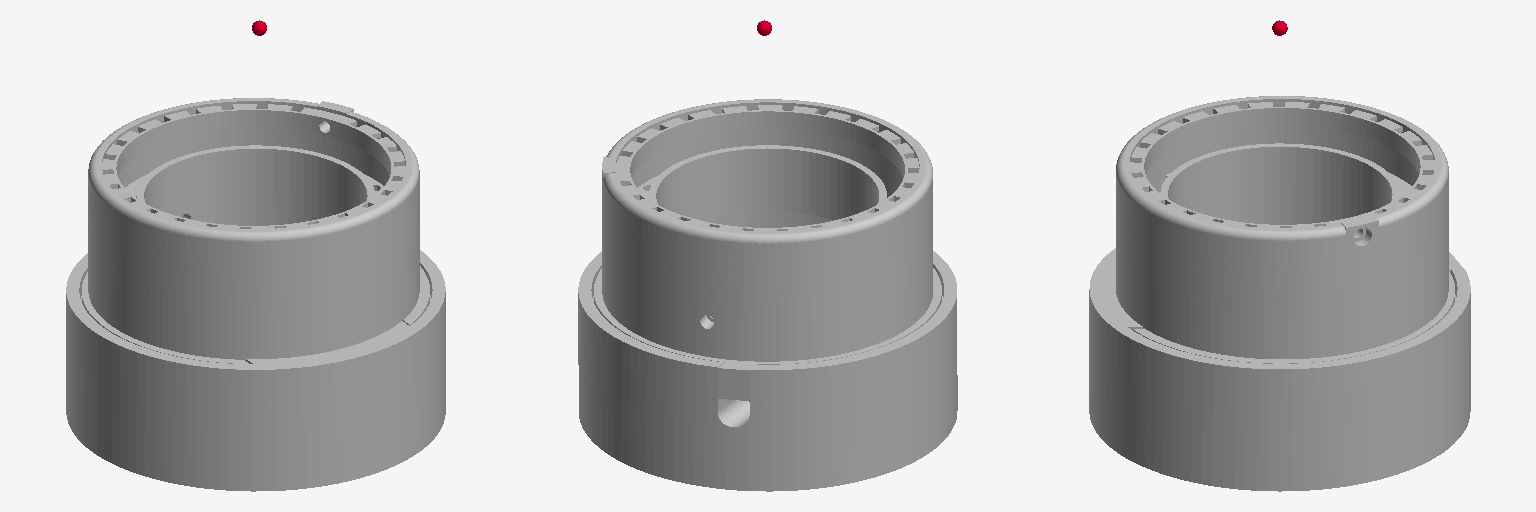
URDF robot description (lbr_iiwa):
<?xml version="1.0" ?>
<robot name="lbr_iiwa">
	<link name="world">
		<inertial>
			<origin rpy="0.00000 -0.00000 0.00000" xyz="0.00000 0.00000 0.00000"/>
			<mass value="0.00000"/>
			<inertia ixx="0.00000" ixy="0" ixz="0" iyy="0.00000" iyz="0" izz="0.00000"/>
		</inertial>
	</link>
	<link name="base_link">
		<inertial>
			<origin rpy="0.00000 -0.00000 0.00000" xyz="-0.10000 0.00000 0.07000"/>
			<mass value="0.00000"/>
			<inertia ixx="0.00000" ixy="0" ixz="0" iyy="0.00000" iyz="0" izz="0.00000"/>
		</inertial>
		<visual>
			<origin rpy="0.00000 -0.00000 0.00000" xyz="0.00000 0.00000 0.00000"/>
			<geometry>
				<mesh filename="../robot_arm_assets/kuka_iiwa/meshes/link_0.obj" scale="1.00000 1.00000 1.00000"/>
			</geometry>
			<material name="mat_0">
				<color rgba="0.20000 0.20000 0.20000 1.00000" />
			</material>
		</visual>
		<collision>
			<origin rpy="0.00000 -0.00000 0.00000" xyz="0.00000 0.00000 0.00000"/>
			<geometry>
				<mesh filename="../robot_arm_assets/kuka_iiwa/meshes/link_0.stl" scale="1.00000 1.00000 1.00000"/>
			</geometry>
		</collision>
	</link>
	<link name="lbr_iiwa_link_1">
		<inertial>
			<origin rpy="0.00000 -0.00000 0.00000" xyz="0.00000 -0.03000 0.12000"/>
			<mass value="4.00000"/>
			<inertia ixx="0.04509" ixy="0" ixz="0" iyy="0.04124" iyz="0" izz="0.02474"/>
		</inertial>
		<visual>
			<origin rpy="0.00000 -0.00000 0.00000" xyz="0.00000 0.00000 0.00000"/>
			<geometry>
				<mesh filename="../robot_arm_assets/kuka_iiwa/meshes/link_1.obj" scale="1.00000 1.00000 1.00000"/>
			</geometry>
			<material name="mat_1">
				<color rgba="0.50000 0.70000 1.00000 1.00000" />
			</material>
		</visual>
		<collision>
			<origin rpy="0.00000 -0.00000 0.00000" xyz="0.00000 0.00000 0.00000"/>
			<geometry>
				<mesh filename="../robot_arm_assets/kuka_iiwa/meshes/link_1.stl" scale="1.00000 1.00000 1.00000"/>
			</geometry>
		</collision>
	</link>
	<link name="lbr_iiwa_link_2">
		<inertial>
			<origin rpy="0.00000 -0.00000 0.00000" xyz="0.00030 0.05900 0.04200"/>
			<mass value="4.00000"/>
			<inertia ixx="0.04343" ixy="0" ixz="0" iyy="0.02460" iyz="0" izz="0.03965"/>
		</inertial>
		<visual>
			<origin rpy="0.00000 -0.00000 0.00000" xyz="0.00000 0.00000 0.00000"/>
			<geometry>
				<mesh filename="../robot_arm_assets/kuka_iiwa/meshes/link_2.obj" scale="1.00000 1.00000 1.00000"/>
			</geometry>
			<material name="mat_2">
				<color rgba="0.50000 0.70000 1.00000 1.00000" />
			</material>
		</visual>
		<collision>
			<origin rpy="0.00000 -0.00000 0.00000" xyz="0.00000 0.00000 0.00000"/>
			<geometry>
				<mesh filename="../robot_arm_assets/kuka_iiwa/meshes/link_2.stl" scale="1.00000 1.00000 1.00000"/>
			</geometry>
		</collision>
	</link>
	<link name="lbr_iiwa_link_3">
		<inertial>
			<origin rpy="0.00000 -0.00000 0.00000" xyz="0.00000 0.03000 0.13000"/>
			<mass value="3.00000"/>
			<inertia ixx="0.03130" ixy="0" ixz="0" iyy="0.02744" iyz="0" izz="0.01394"/>
		</inertial>
		<visual>
			<origin rpy="0.00000 -0.00000 0.00000" xyz="0.00000 0.00000 0.00000"/>
			<geometry>
				<mesh filename="../robot_arm_assets/kuka_iiwa/meshes/link_3.obj" scale="1.00000 1.00000 1.00000"/>
			</geometry>
			<material name="mat_3">
				<color rgba="1.00000 0.42353 0.03922 1.00000" />
			</material>
		</visual>
		<collision>
			<origin rpy="0.00000 -0.00000 0.00000" xyz="0.00000 0.00000 0.00000"/>
			<geometry>
				<mesh filename="../robot_arm_assets/kuka_iiwa/meshes/link_3.stl" scale="1.00000 1.00000 1.00000"/>
			</geometry>
		</collision>
	</link>
	<link name="lbr_iiwa_link_4">
		<inertial>
			<origin rpy="0.00000 -0.00000 0.00000" xyz="0.00000 0.06700 0.03400"/>
			<mass value="2.70000"/>
			<inertia ixx="0.02302" ixy="0" ixz="0" iyy="0.01255" iyz="0" izz="0.01957"/>
		</inertial>
		<visual>
			<origin rpy="0.00000 -0.00000 0.00000" xyz="0.00000 0.00000 0.00000"/>
			<geometry>
				<mesh filename="../robot_arm_assets/kuka_iiwa/meshes/link_4.obj" scale="1.00000 1.00000 1.00000"/>
			</geometry>
			<material name="mat_4">
				<color rgba="0.50000 0.70000 1.00000 1.00000" />
			</material>
		</visual>
		<collision>
			<origin rpy="0.00000 -0.00000 0.00000" xyz="0.00000 0.00000 0.00000"/>
			<geometry>
				<mesh filename="../robot_arm_assets/kuka_iiwa/meshes/link_4.stl" scale="1.00000 1.00000 1.00000"/>
			</geometry>
		</collision>
	</link>
	<link name="lbr_iiwa_link_5">
		<inertial>
			<origin rpy="0.00000 -0.00000 0.00000" xyz="0.00010 0.02100 0.07600"/>
			<mass value="1.70000"/>
			<inertia ixx="0.01559" ixy="0" ixz="0" iyy="0.01421" iyz="0" izz="0.00710"/>
		</inertial>
		<visual>
			<origin rpy="0.00000 -0.00000 0.00000" xyz="0.00000 0.00000 0.00000"/>
			<geometry>
				<mesh filename="../robot_arm_assets/kuka_iiwa/meshes/link_5.obj" scale="1.00000 1.00000 1.00000"/>
			</geometry>
			<material name="mat_5">
				<color rgba="0.50000 0.70000 1.00000 1.00000" />
			</material>
		</visual>
		<collision>
			<origin rpy="0.00000 -0.00000 0.00000" xyz="0.00000 0.00000 0.00000"/>
			<geometry>
				<mesh filename="../robot_arm_assets/kuka_iiwa/meshes/link_5.stl" scale="1.00000 1.00000 1.00000"/>
			</geometry>
		</collision>
	</link>
	<link name="lbr_iiwa_link_6">
		<inertial>
			<origin rpy="0.00000 -0.00000 0.00000" xyz="0.00000 0.00060 0.00040"/>
			<mass value="1.80000"/>
			<inertia ixx="0.00761" ixy="0" ixz="0" iyy="0.00597" iyz="0" izz="0.00738"/>
		</inertial>
		<visual>
			<origin rpy="0.00000 -0.00000 0.00000" xyz="0.00000 0.00000 0.00000"/>
			<geometry>
				<mesh filename="../robot_arm_assets/kuka_iiwa/meshes/link_6.obj" scale="1.00000 1.00000 1.00000"/>
			</geometry>
			<material name="mat_6">
				<color rgba="1.00000 0.42353 0.03922 1.00000" />
			</material>
		</visual>
		<collision>
			<origin rpy="0.00000 -0.00000 0.00000" xyz="0.00000 0.00000 0.00000"/>
			<geometry>
				<mesh filename="../robot_arm_assets/kuka_iiwa/meshes/link_6.stl" scale="1.00000 1.00000 1.00000"/>
			</geometry>
		</collision>
	</link>
	<link name="lbr_iiwa_link_7">
		<inertial>
			<origin rpy="0.00000 -0.00000 0.00000" xyz="0.00000 0.00000 0.02000"/>
			<mass value="0.30000"/>
			<inertia ixx="0.00039" ixy="0" ixz="0" iyy="0.00040" iyz="0" izz="0.00060"/>
		</inertial>
		<visual>
			<origin rpy="0.00000 -0.00000 0.00000" xyz="0.00000 0.00000 0.00000"/>
			<geometry>
				<mesh filename="../robot_arm_assets/kuka_iiwa/meshes/link_7.obj" scale="1.00000 1.00000 1.00000"/>
			</geometry>
			<material name="mat_7">
				<color rgba="0.20000 0.20000 0.20000 1.00000" />
			</material>
		</visual>
		<collision>
			<origin rpy="0.00000 -0.00000 0.00000" xyz="0.00000 0.00000 0.00000"/>
			<geometry>
				<mesh filename="../robot_arm_assets/kuka_iiwa/meshes/link_7.stl" scale="1.00000 1.00000 1.00000"/>
			</geometry>
		</collision>
	</link>
	<link name="ee_link">
		<inertial>
			<origin rpy="-3.14000 -0.00000 1.57000" xyz="0.00000 0.00000 0.00000"/>
			<mass value="0.00000"/>
			<inertia ixx="0.00000" ixy="0" ixz="0" iyy="0.00000" iyz="0" izz="0.00000"/>
		</inertial>
		<visual>
			<origin rpy="0.00000 -0.00000 0.00000" xyz="0.00000 0.00000 0.00000"/>
			<geometry>
				<sphere radius="0.00500"/>
			</geometry>
			<material name="mat_8">
				<color rgba="0.90000 0.00000 0.20000 0.50000" />
			</material>
		</visual>
		<collision>
			<origin rpy="0.00000 -0.00000 0.00000" xyz="0.00000 0.00000 0.00000"/>
			<geometry>
				<sphere radius="0.00100"/>
			</geometry>
		</collision>
	</link>
	<link name="tactip_body_link">
		<inertial>
			<origin rpy="0.00000 -0.00000 0.00000" xyz="0.00000 0.00000 0.00000"/>
			<mass value="0.25000"/>
			<inertia ixx="0.00010" ixy="0" ixz="0" iyy="0.00010" iyz="0" izz="0.00013"/>
		</inertial>
		<visual>
			<origin rpy="0.00000 -0.00000 0.00000" xyz="0.00000 0.00000 0.00000"/>
			<geometry>
				<mesh filename="../sensor_assets/mini_tactip/body/minitip_body.obj" scale="1.00000 1.00000 1.00000"/>
			</geometry>
			<material name="mat_9">
				<color rgba="0.80000 0.80000 0.80000 1.00000" />
			</material>
		</visual>
		<collision>
			<origin rpy="0.00000 -0.00000 0.00000" xyz="0.00000 0.00000 0.00000"/>
			<geometry>
				<mesh filename="../sensor_assets/mini_tactip/body/minitip_body.obj" scale="1.00000 1.00000 1.00000"/>
			</geometry>
		</collision>
	</link>
	<link name="tactip_tip_link">
		<inertial>
			<origin rpy="0.00000 -0.00000 0.00000" xyz="0.00000 0.00000 0.00000"/>
			<mass value="0.01000"/>
			<inertia ixx="0.00000" ixy="0" ixz="0" iyy="0.00000" iyz="0" izz="0.00000"/>
		</inertial>
		<visual>
			<origin rpy="0.00000 -0.00000 0.00000" xyz="0.00000 0.00000 0.00000"/>
			<geometry>
				<mesh filename="../sensor_assets/mini_tactip/tip/skin.obj" scale="1.00000 1.00000 1.00000"/>
			</geometry>
			<material name="mat_10">
				<color rgba="0.00000 0.00000 0.00000 1.00000" />
			</material>
		</visual>
		<collision>
			<origin rpy="0.00000 -0.00000 0.00000" xyz="0.00000 0.00000 0.00000"/>
			<geometry>
				<mesh filename="../sensor_assets/mini_tactip/tip/core.obj" scale="1.00000 1.00000 1.00000"/>
			</geometry>
		</collision>
	</link>
	<link name="tcp_link">
		<inertial>
			<origin rpy="0.00000 -0.00000 1.57000" xyz="0.00000 0.00000 0.00000"/>
			<mass value="0.00000"/>
			<inertia ixx="0.00000" ixy="0" ixz="0" iyy="0.00000" iyz="0" izz="0.00000"/>
		</inertial>
		<visual>
			<origin rpy="0.00000 -0.00000 0.00000" xyz="0.00000 0.00000 0.00000"/>
			<geometry>
				<sphere radius="0.00100"/>
			</geometry>
			<material name="mat_11">
				<color rgba="0.90000 0.00000 0.20000 0.50000" />
			</material>
		</visual>
	</link>
	<joint name="world_joint" type="fixed">
		<parent link="world"/>
		<child link="base_link"/>
		<dynamics damping="1.0" friction="0.0001"/>
		<origin rpy="0.00000 -0.00000 0.00000" xyz="0.00000 0.00000 0.00000"/>
		<axis xyz="0.00000 0.00000 0.00000"/>
	</joint>
	<joint name="lbr_iiwa_joint_1" type="revolute">
		<parent link="base_link"/>
		<child link="lbr_iiwa_link_1"/>
		<limit effort="300.00000" lower="-100.00000" upper="100.00000" velocity="10.00000"/>
		<dynamics damping="1.0" friction="0.0001"/>
		<origin rpy="0.00000 -0.00000 0.00000" xyz="0.00000 0.00000 0.15750"/>
		<axis xyz="0.00000 0.00000 1.00000"/>
	</joint>
	<joint name="lbr_iiwa_joint_2" type="revolute">
		<parent link="lbr_iiwa_link_1"/>
		<child link="lbr_iiwa_link_2"/>
		<limit effort="300.00000" lower="-100.00000" upper="100.00000" velocity="10.00000"/>
		<dynamics damping="1.0" friction="0.0001"/>
		<origin rpy="1.57080 -0.00000 -3.14159" xyz="0.00000 0.00000 0.20250"/>
		<axis xyz="0.00000 0.00000 1.00000"/>
	</joint>
	<joint name="lbr_iiwa_joint_3" type="revolute">
		<parent link="lbr_iiwa_link_2"/>
		<child link="lbr_iiwa_link_3"/>
		<limit effort="300.00000" lower="-100.00000" upper="100.00000" velocity="10.00000"/>
		<dynamics damping="1.0" friction="0.0001"/>
		<origin rpy="1.57080 -0.00000 -3.14159" xyz="0.00000 0.20450 0.00000"/>
		<axis xyz="0.00000 0.00000 1.00000"/>
	</joint>
	<joint name="lbr_iiwa_joint_4" type="revolute">
		<parent link="lbr_iiwa_link_3"/>
		<child link="lbr_iiwa_link_4"/>
		<limit effort="300.00000" lower="-100.00000" upper="100.00000" velocity="10.00000"/>
		<dynamics damping="1.0" friction="0.0001"/>
		<origin rpy="1.57080 -0.00000 0.00000" xyz="0.00000 0.00000 0.21550"/>
		<axis xyz="0.00000 0.00000 1.00000"/>
	</joint>
	<joint name="lbr_iiwa_joint_5" type="revolute">
		<parent link="lbr_iiwa_link_4"/>
		<child link="lbr_iiwa_link_5"/>
		<limit effort="300.00000" lower="-100.00000" upper="100.00000" velocity="10.00000"/>
		<dynamics damping="1.0" friction="0.0001"/>
		<origin rpy="1.57080 -0.00000 3.14159" xyz="0.00000 0.18450 0.00000"/>
		<axis xyz="0.00000 0.00000 1.00000"/>
	</joint>
	<joint name="lbr_iiwa_joint_6" type="revolute">
		<parent link="lbr_iiwa_link_5"/>
		<child link="lbr_iiwa_link_6"/>
		<limit effort="300.00000" lower="-100.00000" upper="100.00000" velocity="10.00000"/>
		<dynamics damping="1.0" friction="0.0001"/>
		<origin rpy="1.57080 -0.00000 0.00000" xyz="0.00000 0.00000 0.21550"/>
		<axis xyz="0.00000 0.00000 1.00000"/>
	</joint>
	<joint name="lbr_iiwa_joint_7" type="revolute">
		<parent link="lbr_iiwa_link_6"/>
		<child link="lbr_iiwa_link_7"/>
		<limit effort="300.00000" lower="-100.00000" upper="100.00000" velocity="10.00000"/>
		<dynamics damping="1.0" friction="0.0001"/>
		<origin rpy="1.57080 -0.00000 3.14159" xyz="0.00000 0.08100 0.00000"/>
		<axis xyz="0.00000 0.00000 1.00000"/>
	</joint>
	<joint name="ee_joint" type="fixed">
		<parent link="lbr_iiwa_link_7"/>
		<child link="ee_link"/>
		<dynamics damping="1.0" friction="0.0001"/>
		<origin rpy="3.14000 -0.00000 -0.00000" xyz="0.00000 0.00000 0.04000"/>
		<axis xyz="0.00000 0.00000 0.00000"/>
	</joint>
	<joint name="joint_dummy1" type="fixed">
		<parent link="ee_link"/>
		<child link="tactip_body_link"/>
		<dynamics damping="1.0" friction="0.0001"/>
		<origin rpy="-3.14159 0.00000 3.14159" xyz="0.00000 0.00000 0.00000"/>
		<axis xyz="0.00000 0.00000 1.00000"/>
	</joint>
	<joint name="tactip_tip_to_body" type="fixed">
		<parent link="tactip_body_link"/>
		<child link="tactip_tip_link"/>
		<dynamics damping="1.0" friction="0.0001"/>
		<origin rpy="1.57000 -0.00000 0.00000" xyz="0.00000 0.00000 0.03500"/>
		<axis xyz="0.00000 0.00000 0.00000"/>
	</joint>
	<joint name="tcp_joint" type="fixed">
		<parent link="tactip_body_link"/>
		<child link="tcp_link"/>
		<dynamics damping="1.0" friction="0.0001"/>
		<origin rpy="0.00000 -0.00000 0.00000" xyz="0.00000 0.00000 0.05500"/>
		<axis xyz="0.00000 0.00000 0.00000"/>
	</joint>
</robot>

--- What the picture shows (computed from the rendered views, not written in the file) ---
The picture shows the robot from 3 angles, left to right: view 1: azimuth 30°, elevation 25°; view 2: azimuth 150°, elevation 25°; view 3: azimuth 270°, elevation 25°; orthographic projection.
Robot: lbr_iiwa — 13 links, 12 joints (7 revolute, 5 fixed); root link world; default pose: all joints at 0.
Links seen in each view (by area): view 1: tactip_body_link; view 2: tactip_body_link; view 3: tactip_body_link.
Boxes of the visible links, x1,y1,x2,y2 form: tactip_body_link: [66, 98, 445, 491]; tactip_body_link: [578, 99, 957, 491]; tactip_body_link: [1089, 96, 1470, 491].
Bounding box of the posed robot: 0.0493 × 0.0493 × 0.061 m (x, y, z).
Meshes: 10 distinct files referenced, 1 mesh visuals loaded (1 OBJ); not drawn: 9 (reference not matched to a file when rendering).